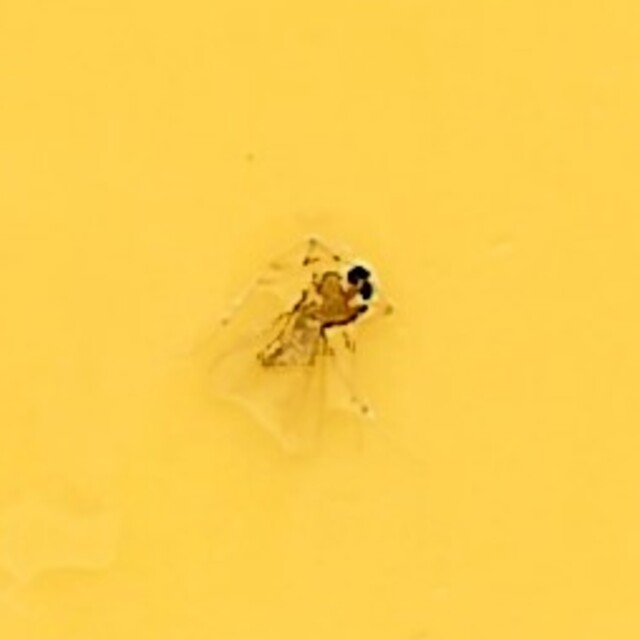Brachycera: (252, 256, 388, 384)
